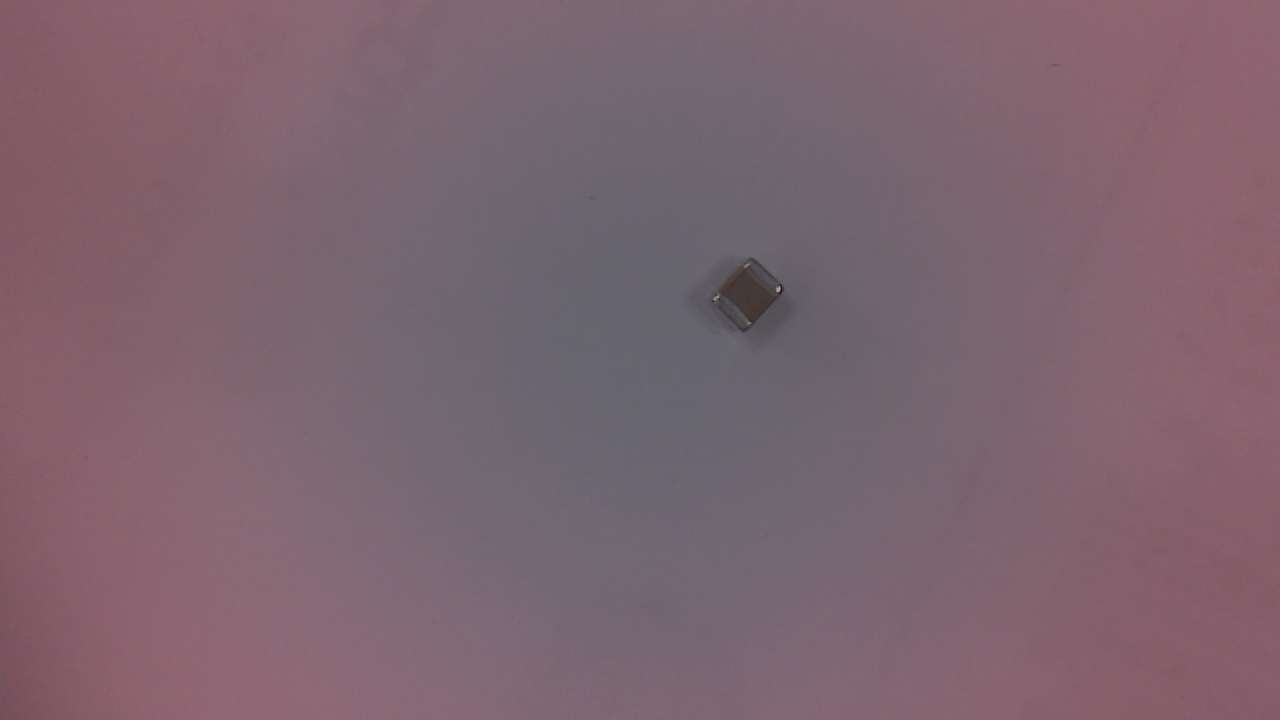Condensator: (718, 261, 792, 338)
